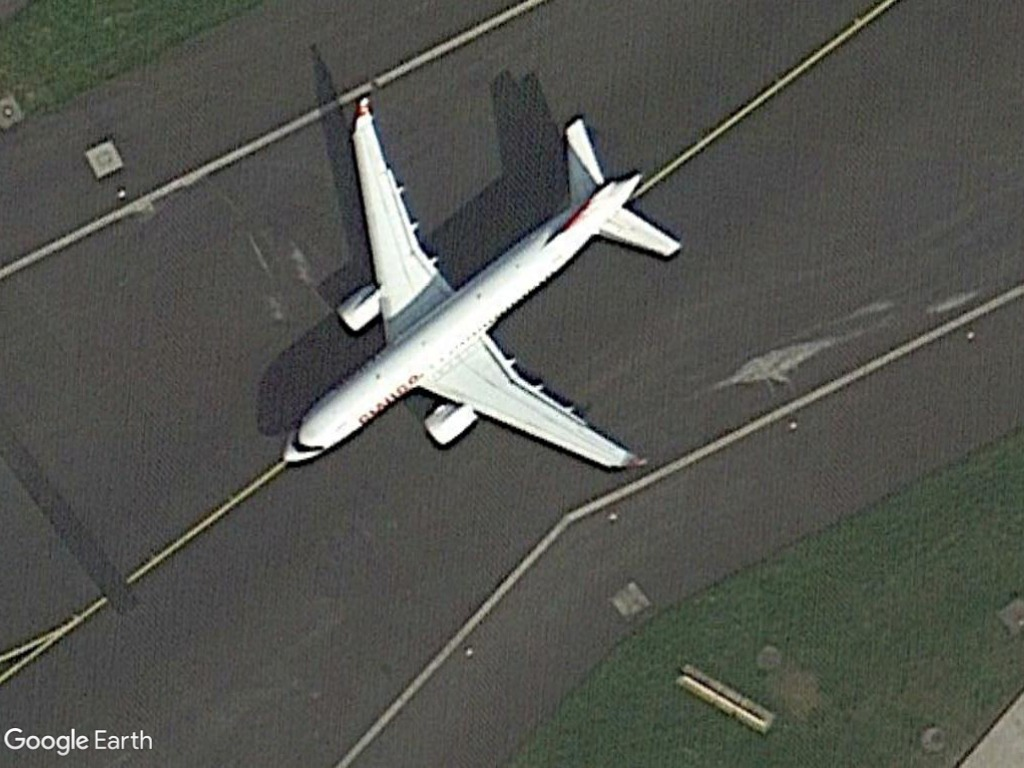airliner: (272, 93, 687, 486)
